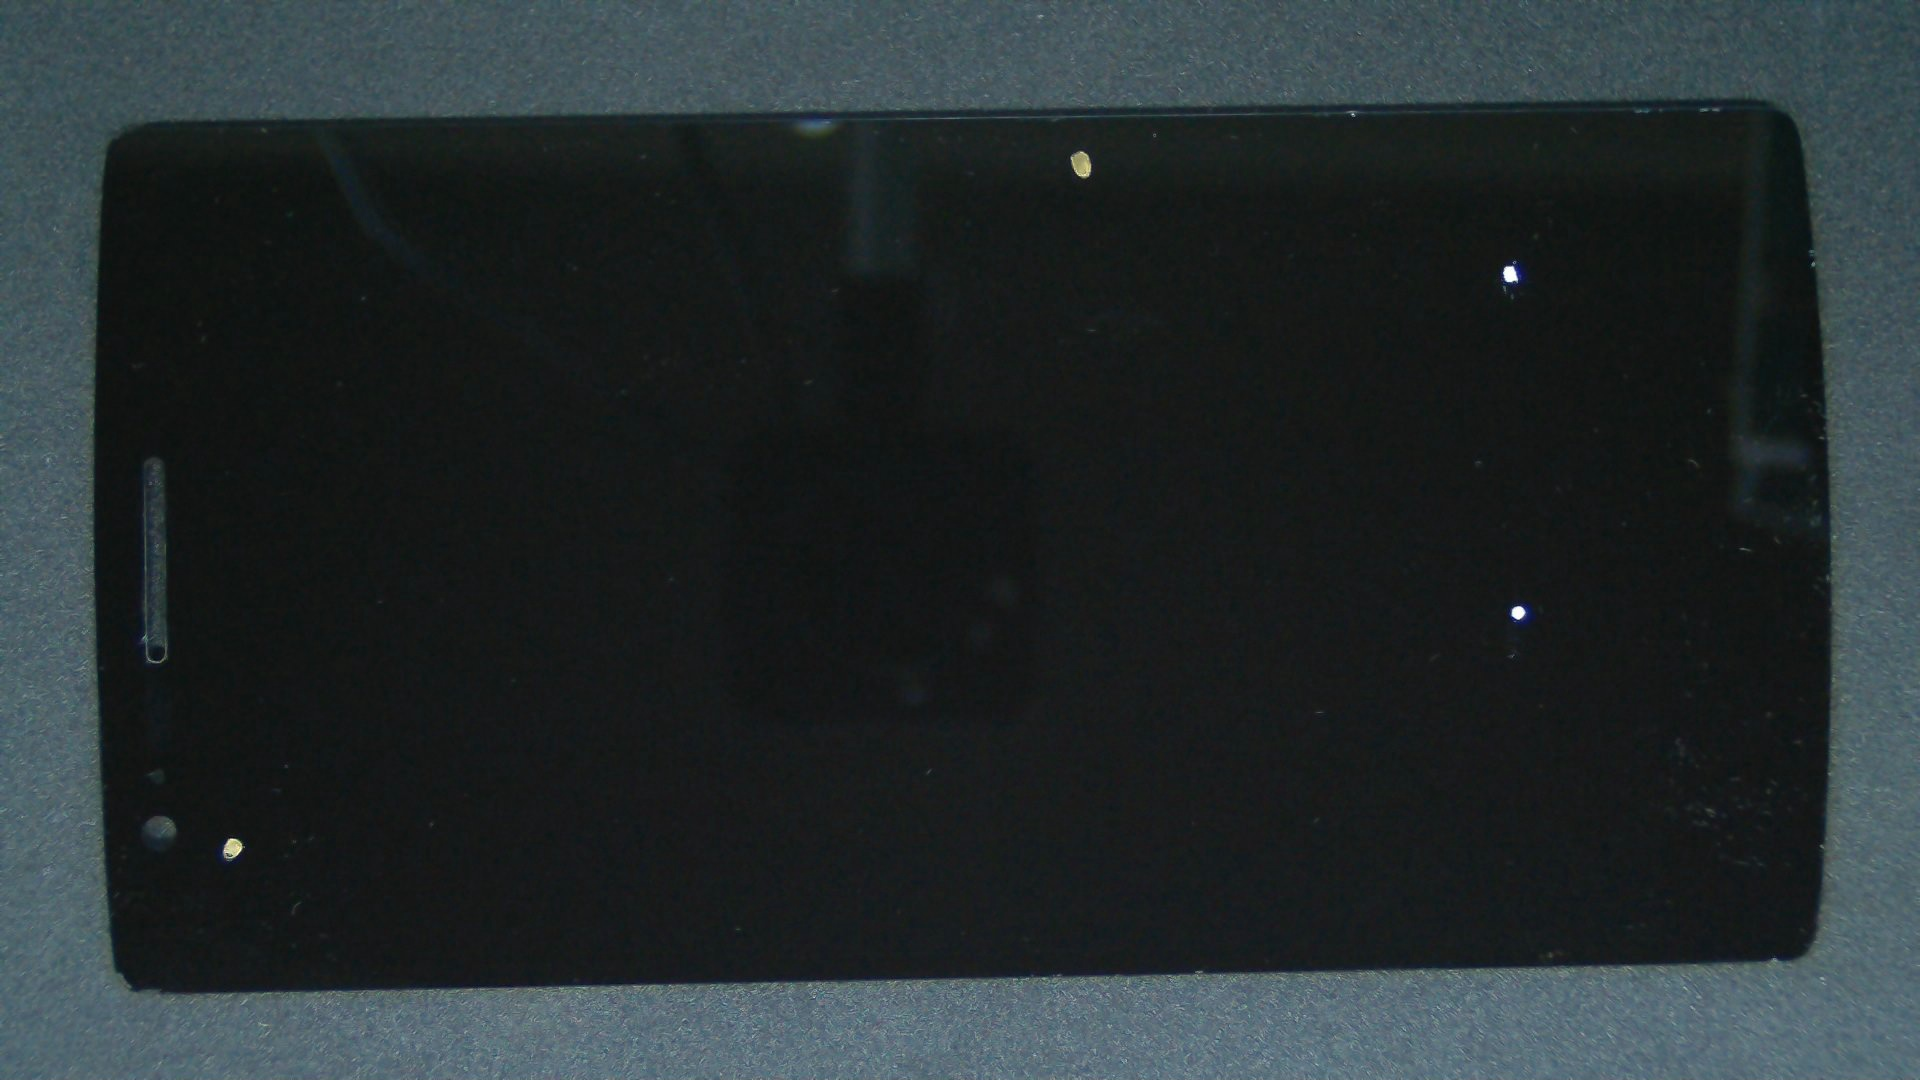oil: (760, 302, 1920, 906), (758, 132, 1920, 397), (541, 74, 1618, 223), (119, 418, 355, 1080)
